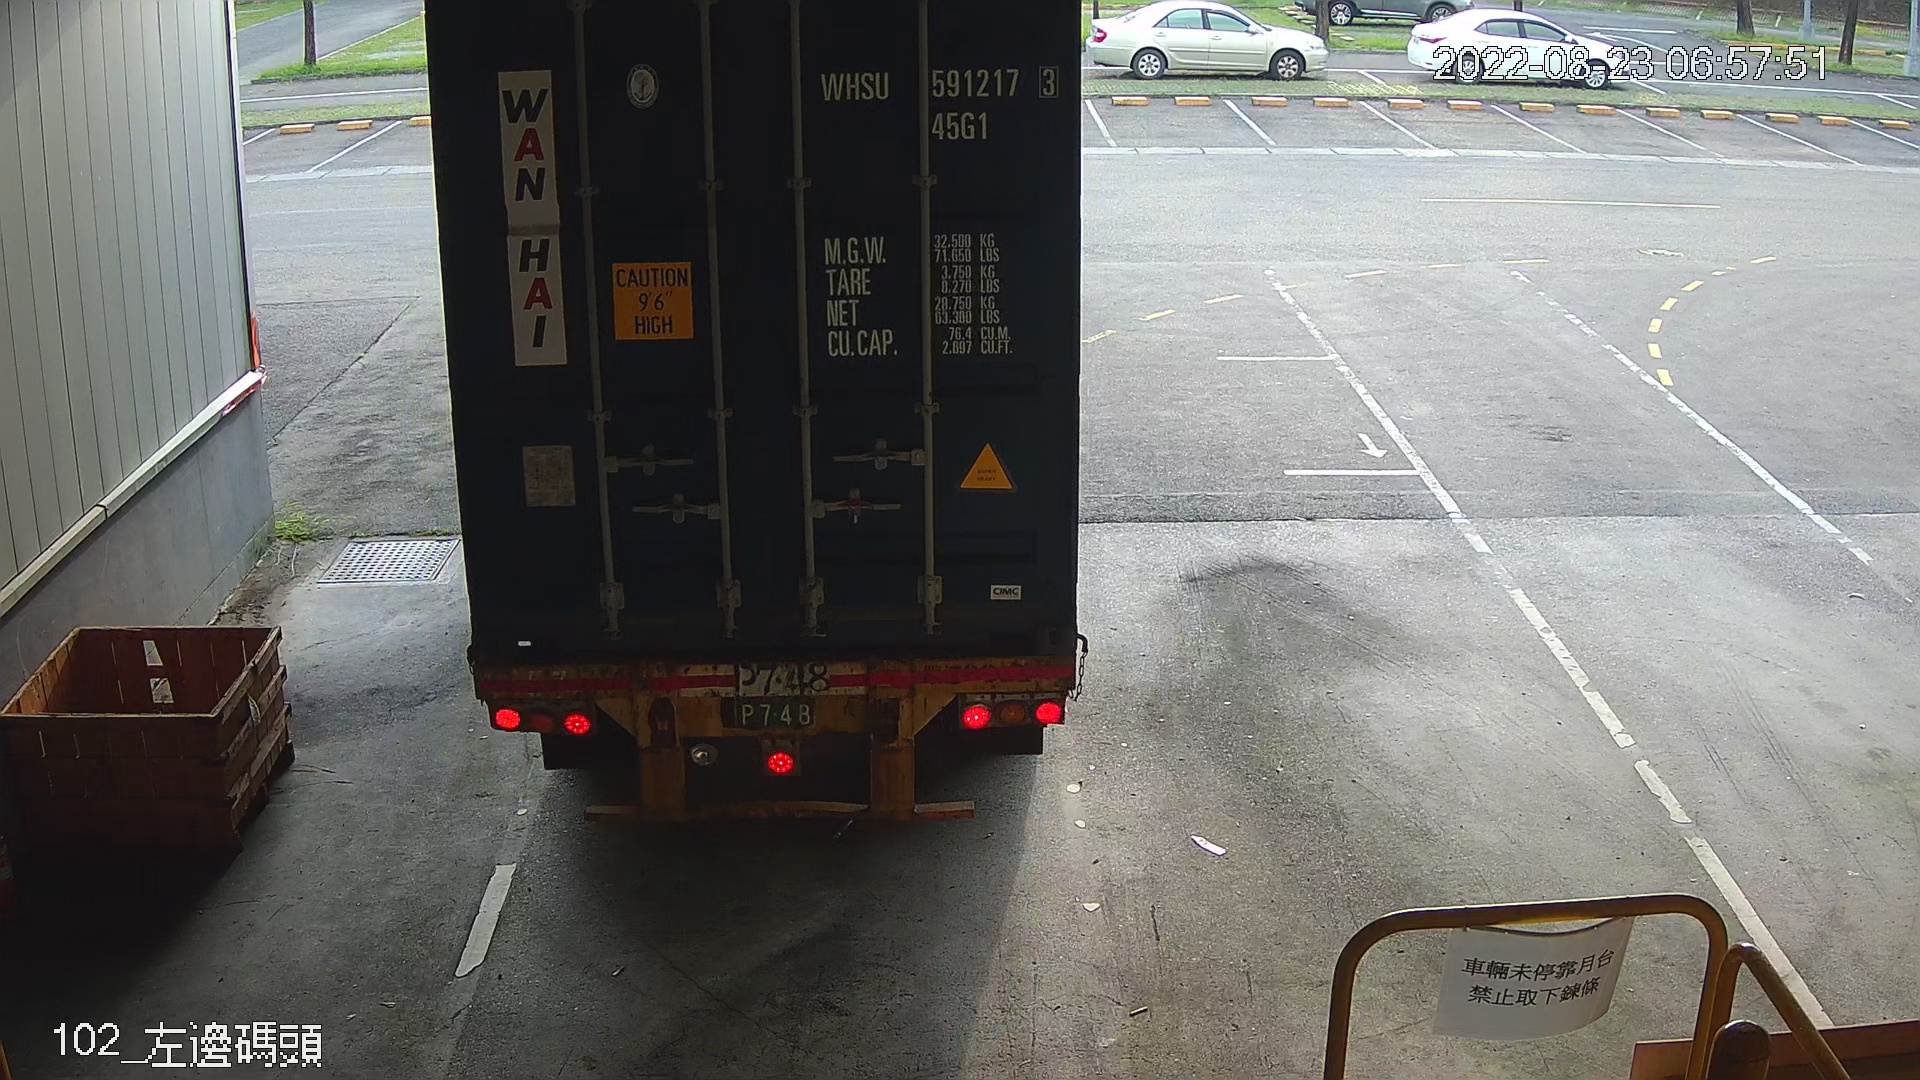container: (810, 55, 1065, 145)
